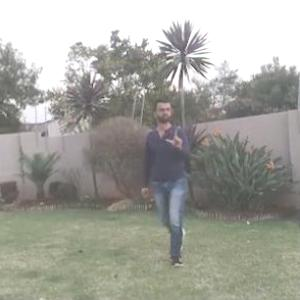land_hand: (161, 119, 187, 152)
